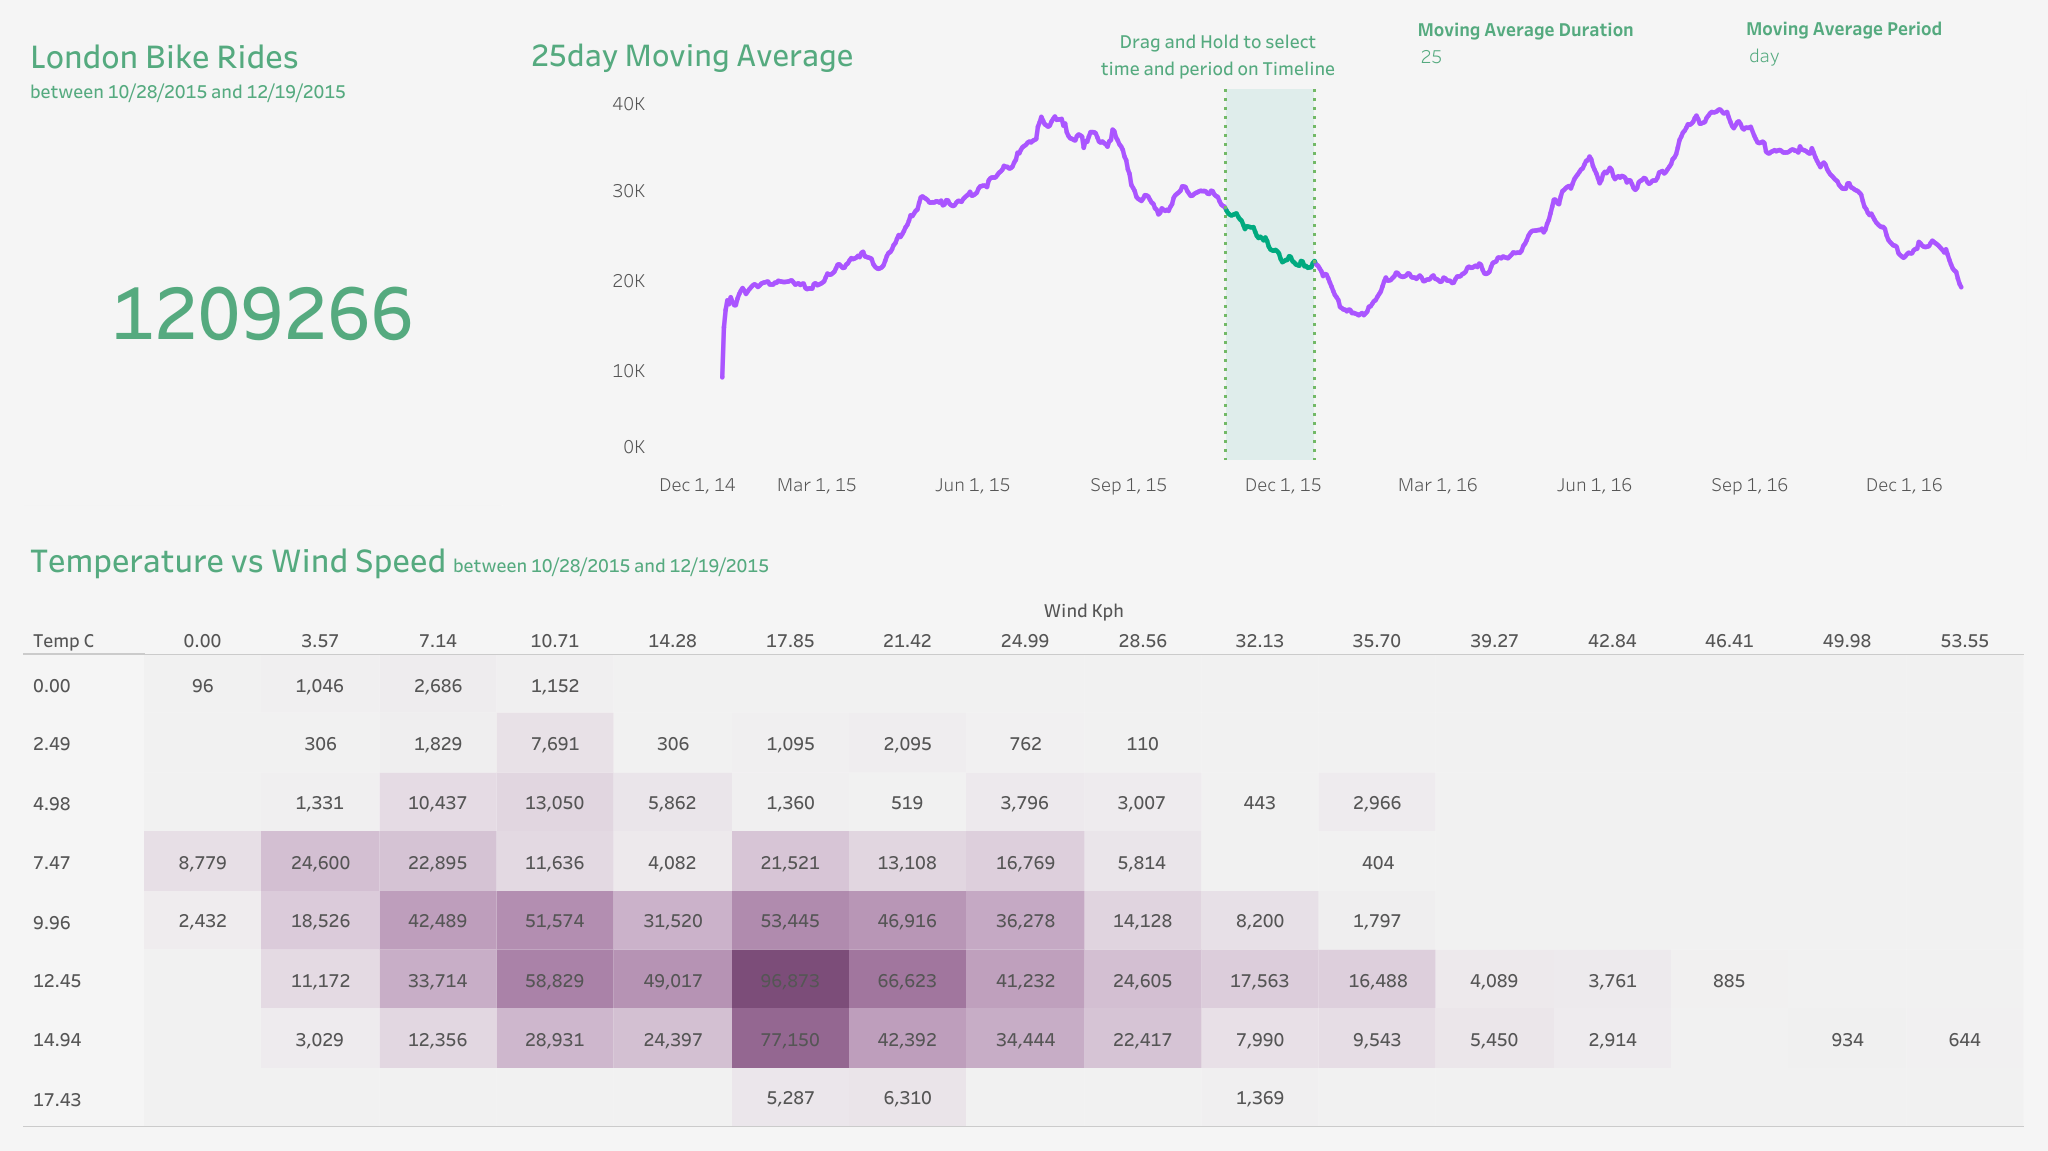

What the dashboard file says about the page in this screenshot:
{"tool":"tableau","page":{"name":"Dashboard 1","canvas":[1366,768],"ordinal":0},"visuals":[{"type":"worksheet","title":"Total Rides","mark":"Automatic","box":[8,8,334,336]},{"type":"worksheet","title":"Moving Average","mark":"Automatic","rows":["Calculation1"],"cols":["Calculation_630222480133971970"],"box":[342,8,1016,336]},{"type":"text","box":[677,8,270,56]},{"type":"parameter","param":"[Parameters].[Parameter 1]","box":[1164,8,200,52]},{"type":"parameter","param":"[Parameters].[Parameter 2]","box":[945,9,219,52]},{"type":"worksheet","title":"Heatmap","mark":"Square","rows":["Temp (bin)"],"cols":["Wind Speed Kph (bin)"],"box":[8,344,1350,416]}]}

Visuals, with their boxes in screenshot pixels (x1, y1, x2, y2), scaled from the page's 1366x768 canvas onto the 2048x1151 screenshot:
"Total Rides" worksheet: Rect(12, 12, 513, 516)
"Moving Average" worksheet: Rect(513, 12, 2036, 516)
text: Rect(1015, 12, 1420, 96)
parameter: Rect(1745, 12, 2045, 90)
parameter: Rect(1417, 13, 1745, 91)
"Heatmap" worksheet (Square marks): Rect(12, 516, 2036, 1139)
